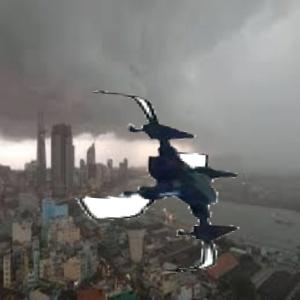drone: (56, 86, 252, 282)
